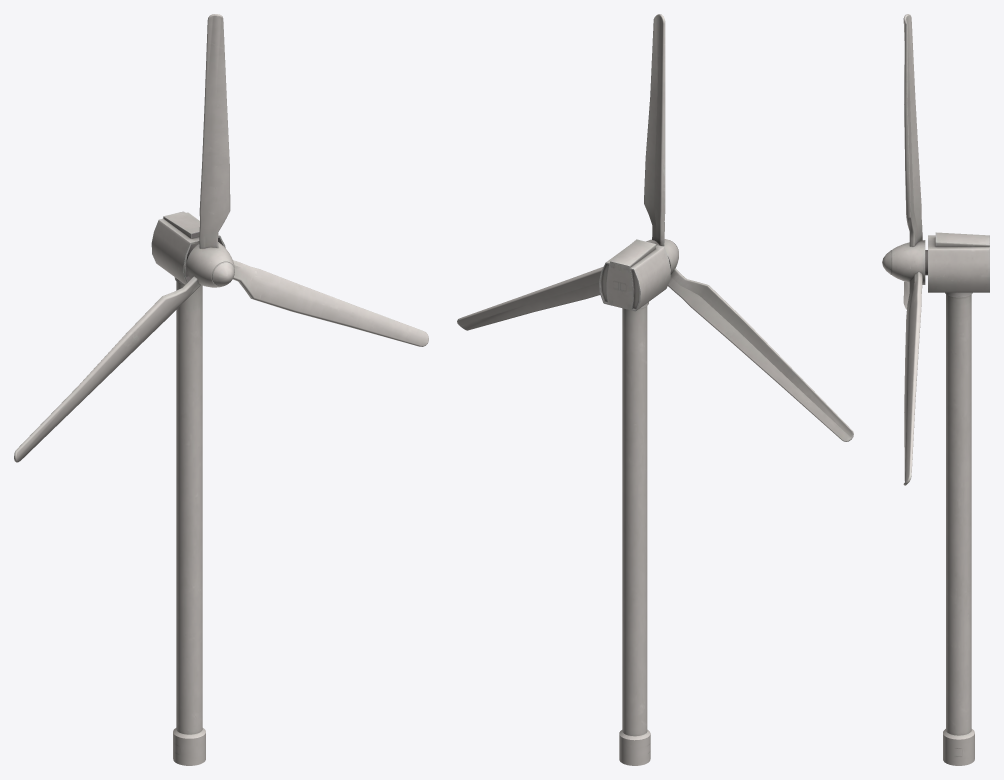
File: wind_mill.glb
3 renders of one model, left to right at view 1: azimuth 30°, elevation 25°; view 2: azimuth 150°, elevation 25°; view 3: azimuth 270°, elevation 25°, orthographic. The views are drawn at different scales.
Visible parts, largest first — view 1: Blades, Main Unit_WindTurbine_PBR_0; view 2: Main Unit_WindTurbine_PBR_0, Blades; view 3: Main Unit_WindTurbine_PBR_0, Blades.
Part boxes in pixels (<box>): Blades: <box>14,14,428,462</box>; Main Unit_WindTurbine_PBR_0: <box>151,211,225,765</box>; Main Unit_WindTurbine_PBR_0: <box>599,239,670,765</box>; Blades: <box>457,14,853,441</box>; Main Unit_WindTurbine_PBR_0: <box>928,232,989,765</box>; Blades: <box>882,14,927,485</box>.
Bounding box in the file's own units: 4544 × 7985 × 1049.
Materials: 1 (1 with a texture image).
